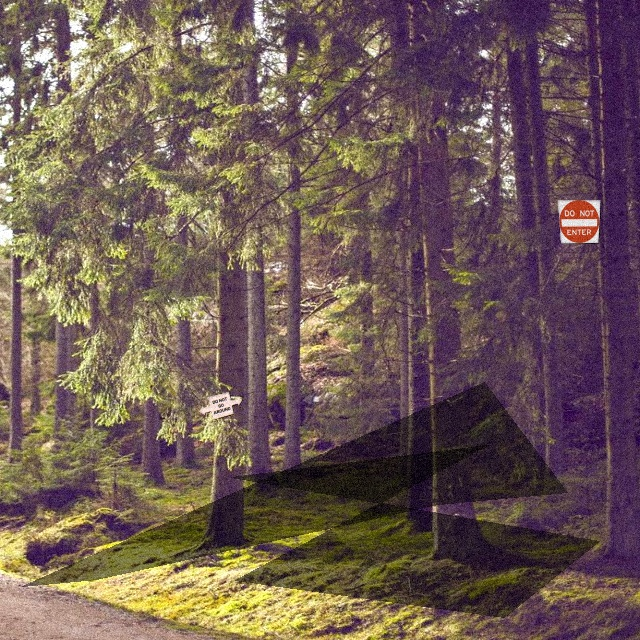DO_NOT_ENTER: (557, 199, 601, 244)
DO_NOT_GO_AROUND: (198, 391, 243, 420)
